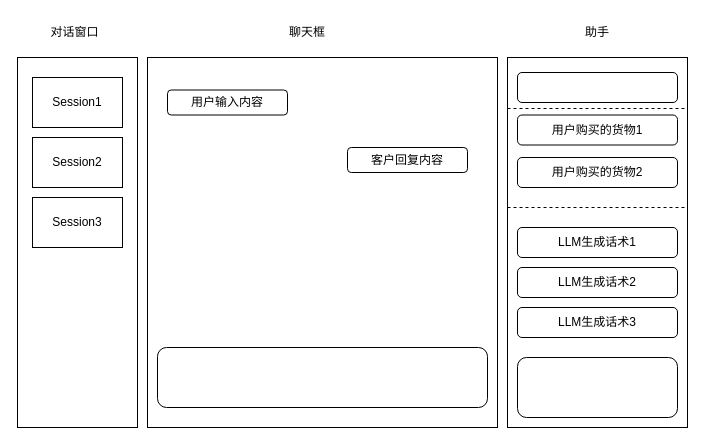
The diagram is 706 pixels wide and 445 high, and some of its shapes have lost their labels. Each missing label, with the centre of its shape:
客服输入优化话术内容: point (597, 387)
情绪识别: point (597, 87)
输入框: point (322, 377)
